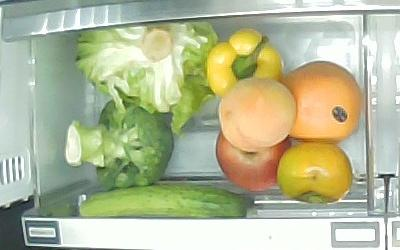apple: (216, 130, 292, 192)
broccoli: (65, 99, 175, 187)
cucumber: (79, 184, 247, 217)
grapefruit: (282, 61, 362, 143)
lettuce: (75, 21, 219, 115)
paprika: (207, 28, 284, 96)
peach: (219, 78, 296, 151)
persimmon: (277, 141, 353, 204)
